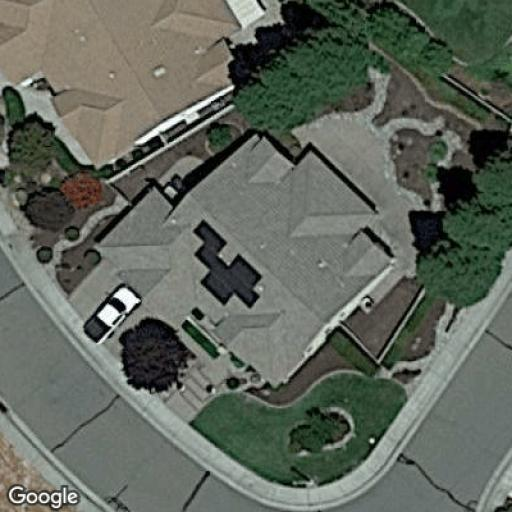solar-panel: (190, 218, 264, 310)
